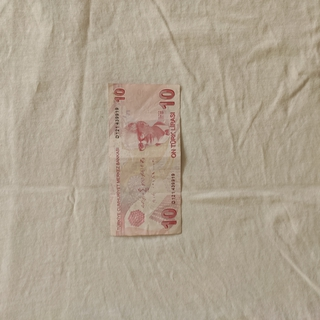10TLBack: (108, 83, 181, 237)
